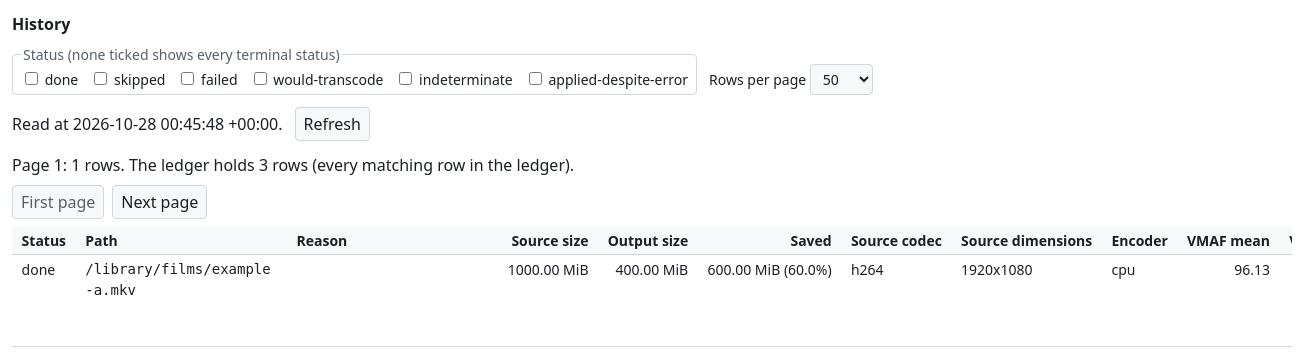
it: history view › history view: goes back to the first page
Expected: the text "Read at 2026-10-28 00:45:48 +00:00." is shown, x1=12 y1=112 x2=282 y2=136
Expected: the button "First page" is disabled, x1=12 y1=185 x2=104 y2=219
Click the button "Next page" at (160,202), box x1=112 y1=185 x2=207 y2=219
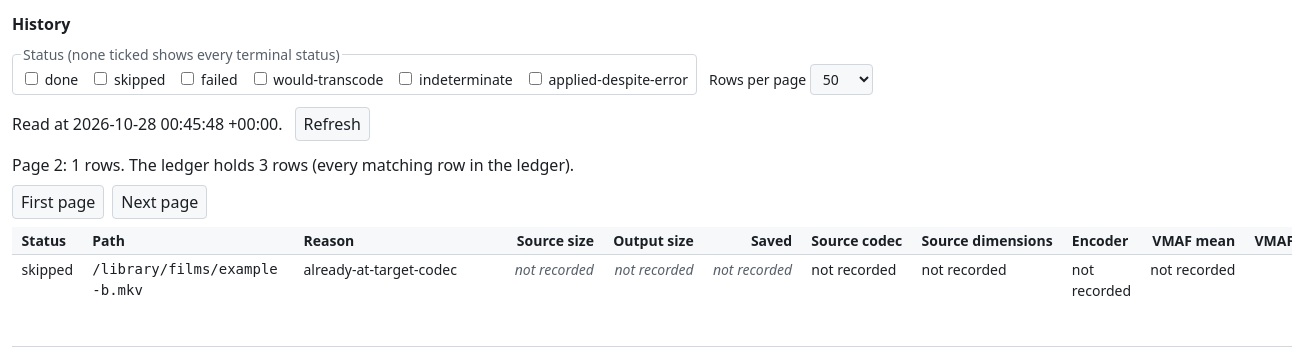
Expected: the text "Page 2: 1 rows." is shown, x1=12 y1=154 x2=129 y2=176
Click the button "First page" at (58,202), box x1=12 y1=185 x2=104 y2=219
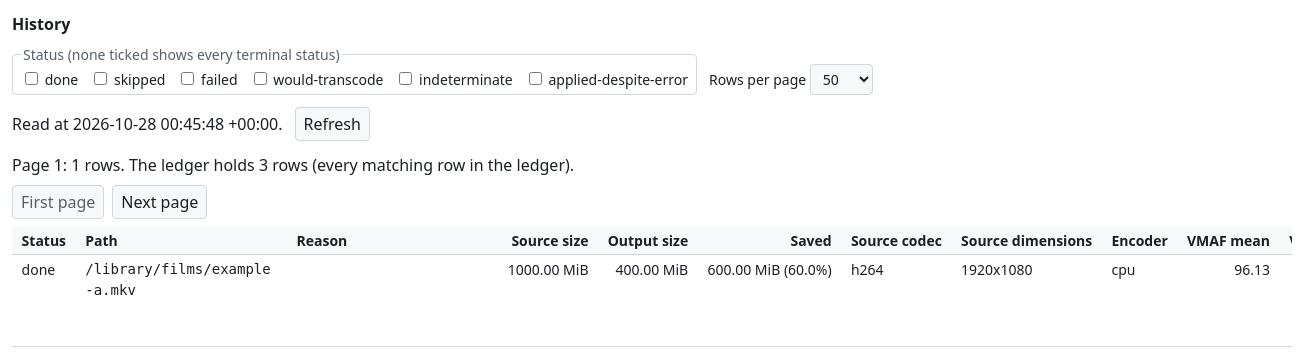
Expected: the label "done" is shown, x1=21 y1=69 x2=78 y2=90
Expected: the text "Page 1: 1 rows." is shown, x1=12 y1=154 x2=129 y2=176
